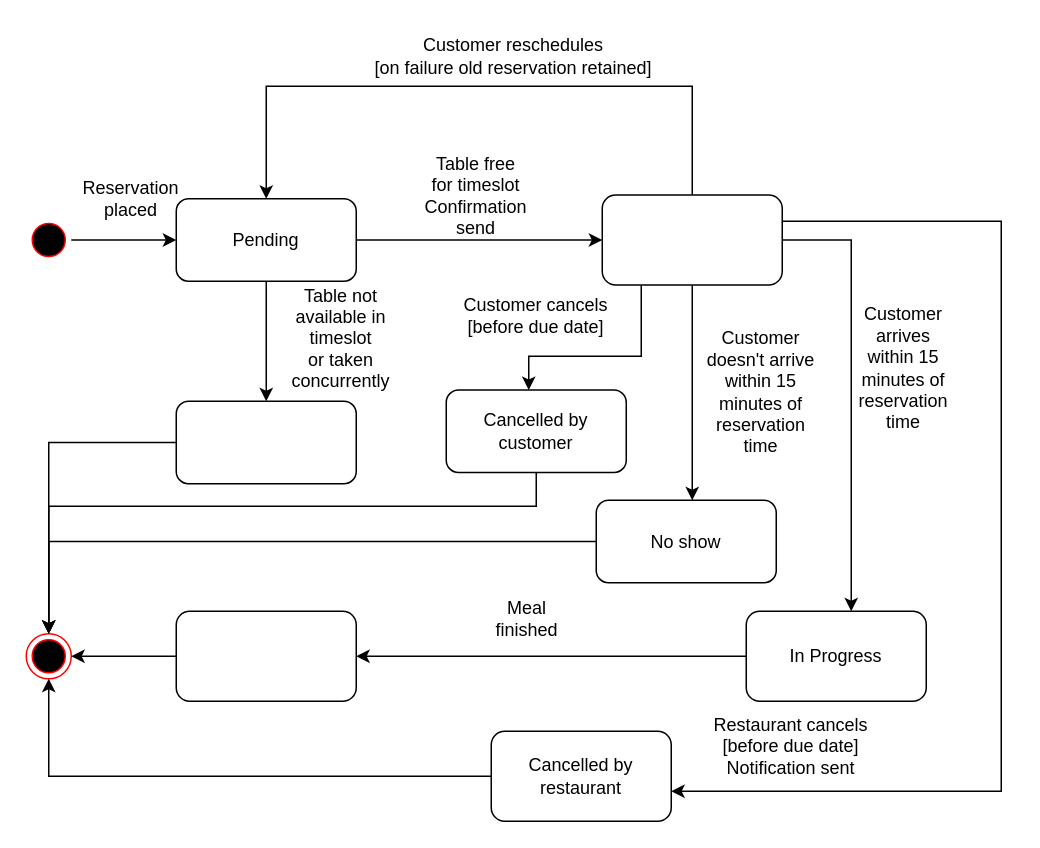
Image size: 1040x848. Some labels were removed from this diagram. The shapes that lost their labels are listed below. From the top down, each one's box as (x1, y1, x2, y2) in pixels, then its label:
(601, 194, 782, 285): Confirmed
(175, 400, 356, 484): Rejected
(175, 610, 356, 701): Completed
